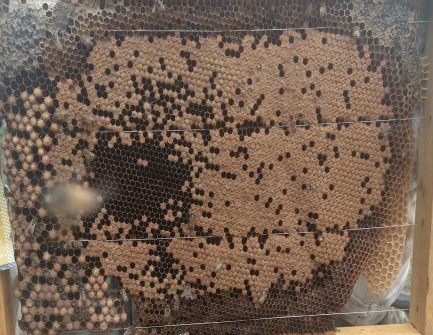cria: (0, 31, 395, 335)
